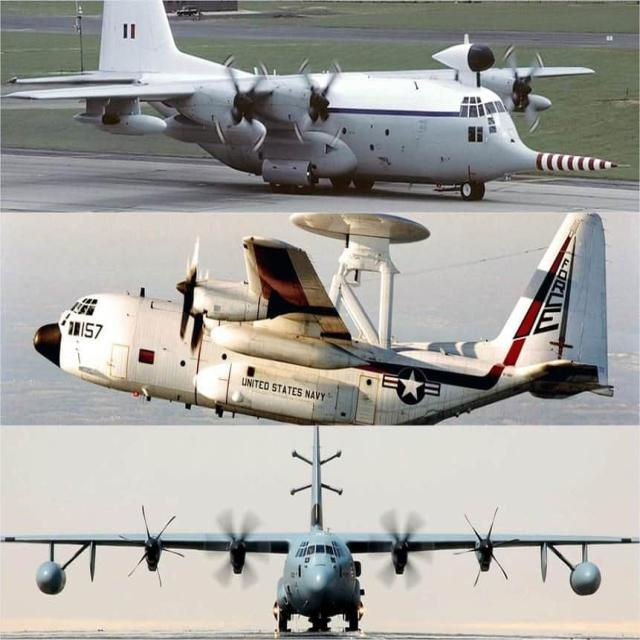C130: (0, 398, 640, 640), (20, 208, 640, 452), (7, 0, 639, 203)
